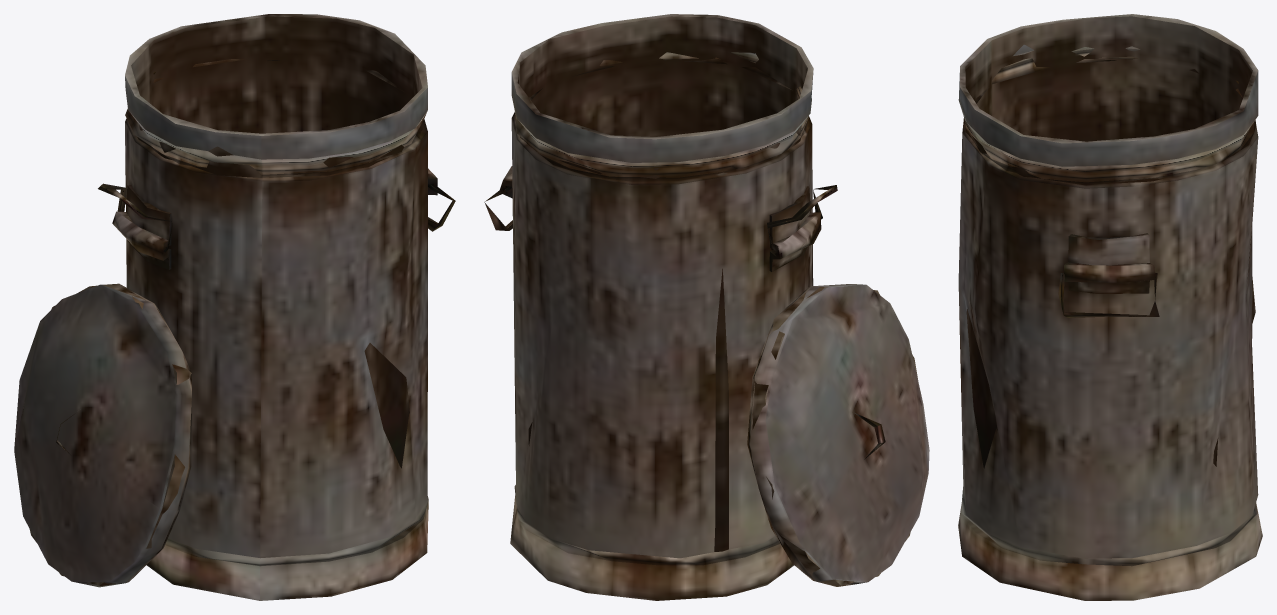
Rendered from trash_can.glb.
3 renders of one model, left to right at view 1: azimuth 30°, elevation 25°; view 2: azimuth 150°, elevation 25°; view 3: azimuth 270°, elevation 25°, orthographic.
Parts seen in each view (by area): view 1: trash_can; view 2: trash_can; view 3: trash_can.
Part boxes in pixels (left/top/right/bottom): trash_can: left=14, top=14, right=455, bottom=600; trash_can: left=484, top=14, right=929, bottom=600; trash_can: left=958, top=14, right=1262, bottom=600.
Bounding box in the file's own units: 0.7715 × 0.906 × 0.5432.
Materials: 1 (1 with a texture image).
